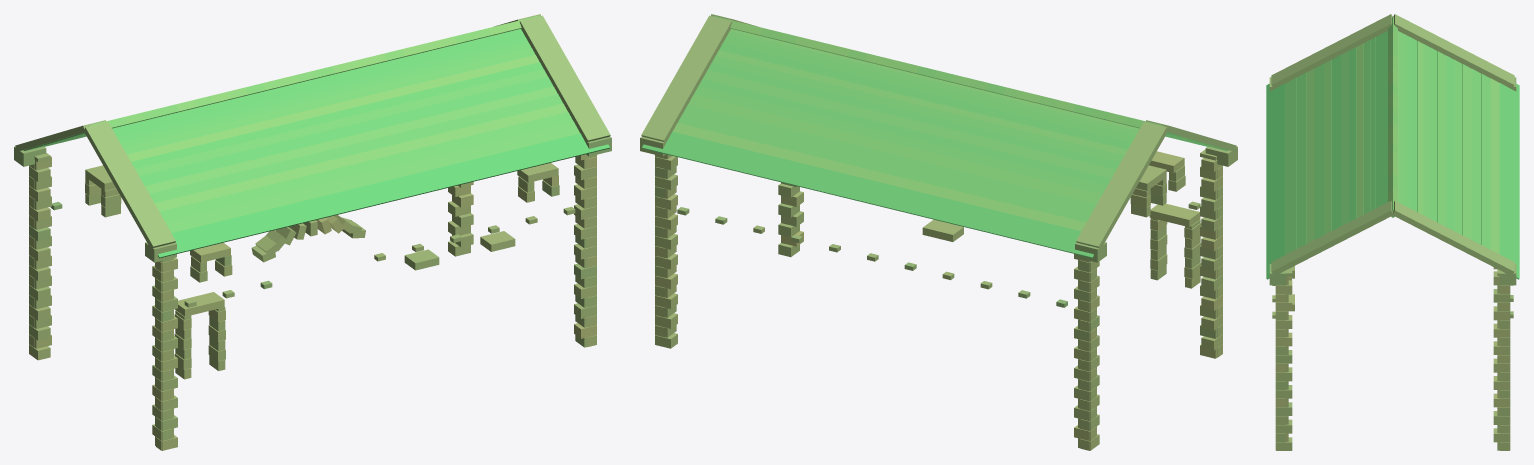
The model's file is SM_Bld_011_Stone.glb.
3 views of the same model, side by side, from view 1: azimuth 30°, elevation 25°; view 2: azimuth 150°, elevation 25°; view 3: azimuth 270°, elevation 25° (orthographic). The views are drawn at different scales.
Parts seen in each view (by area): view 1: SM_Bld_011_Stone; view 2: SM_Bld_011_Stone; view 3: SM_Bld_011_Stone.
Boxes of the visible parts, x1=… form: SM_Bld_011_Stone: x1=14, y1=14, x2=611, y2=450; SM_Bld_011_Stone: x1=640, y1=14, x2=1237, y2=450; SM_Bld_011_Stone: x1=1266, y1=14, x2=1519, y2=450.
Bounding box in the file's own units: 14.49 × 8.43 × 7.89.
